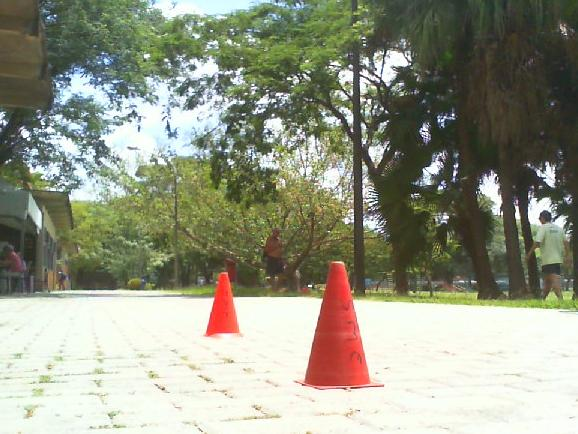0 cone: (293, 261, 384, 390), (204, 273, 243, 339)
